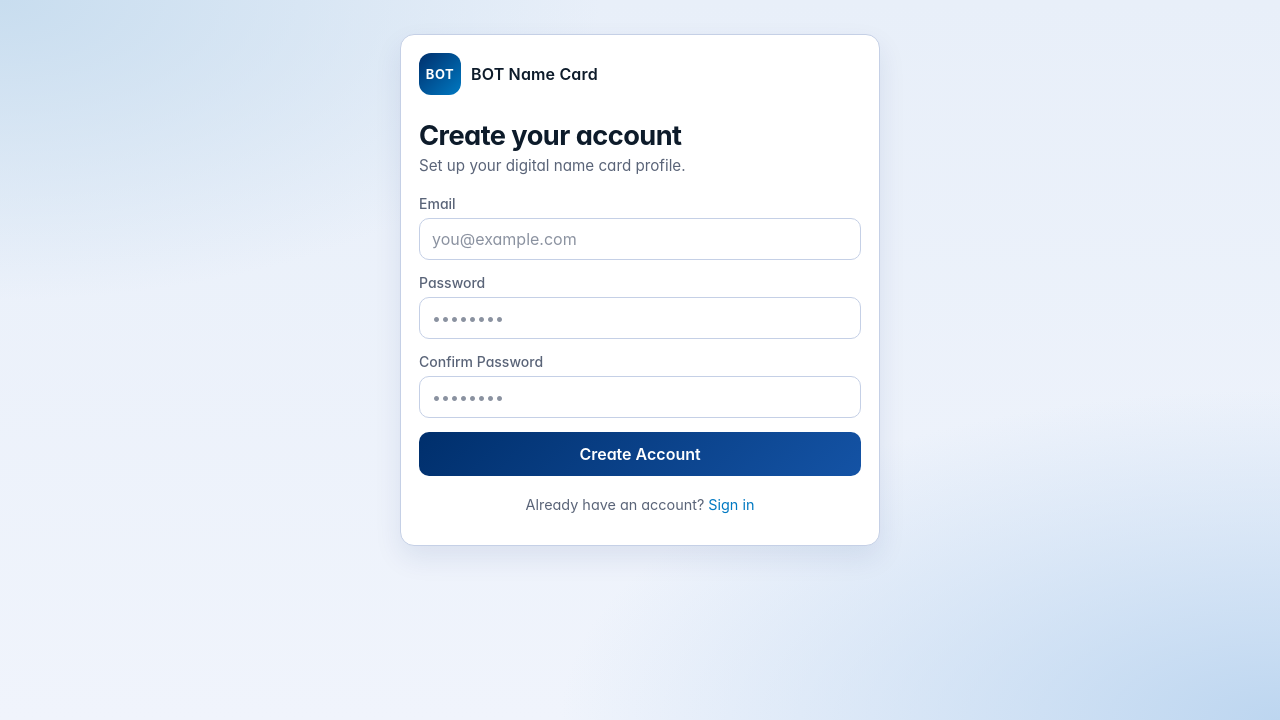
Test case: RegisterPage › shows generic error on other API failures
This screenshot has width=1280, height=720.
In the field labelled "Email": (640, 239) [419,218,861,260], type "taken@b.com"
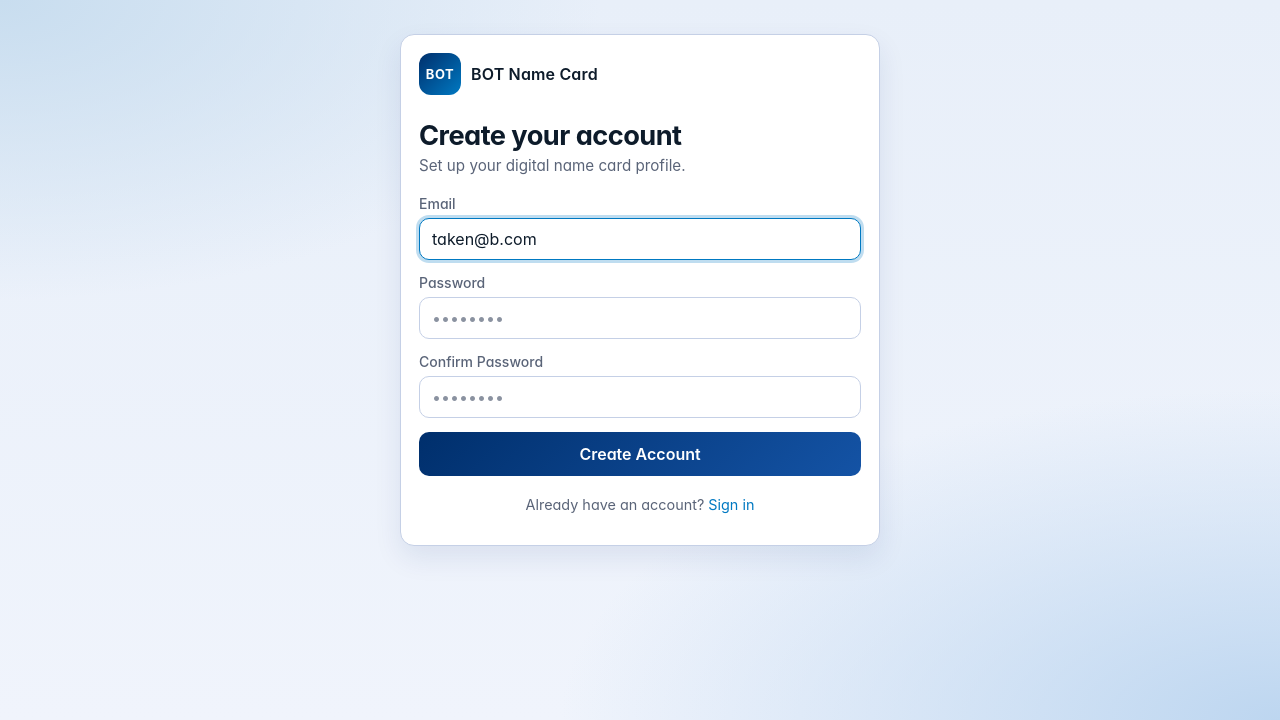
In the password field labelled "Password": (640, 318) [419,297,861,339], type "password123"
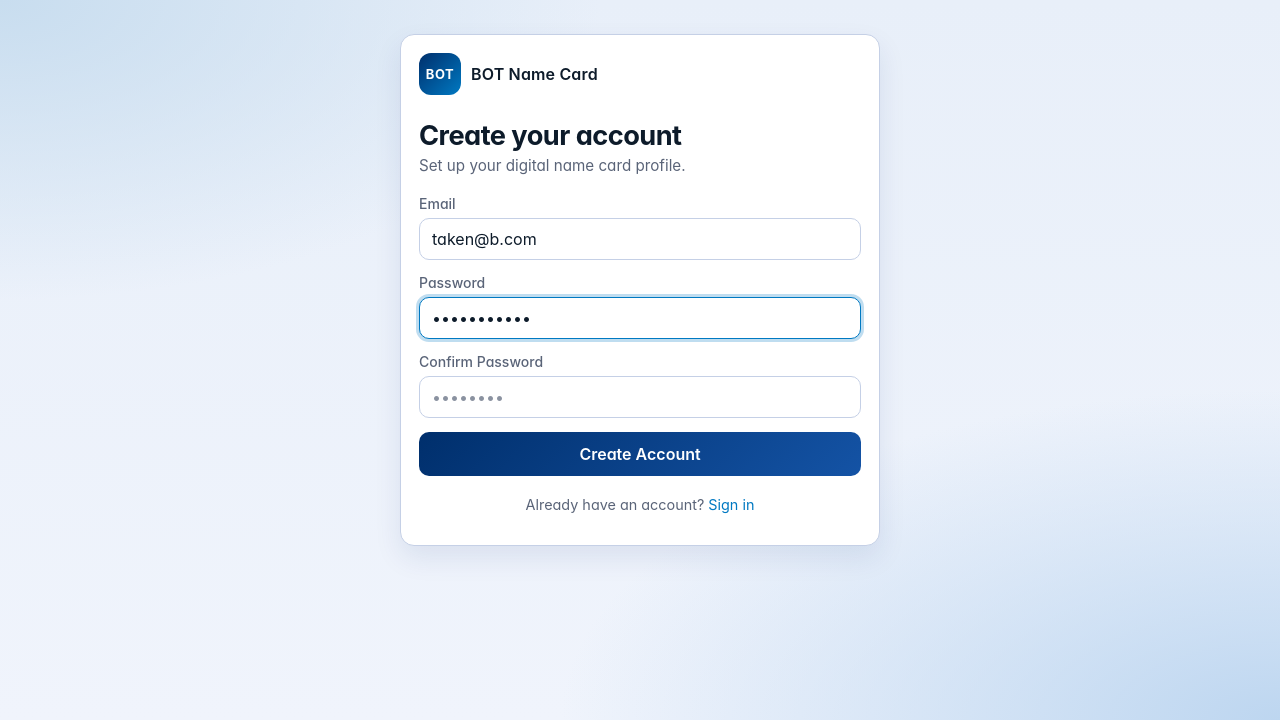
In the password field labelled "Confirm Password": (640, 397) [419,376,861,418], type "password123"
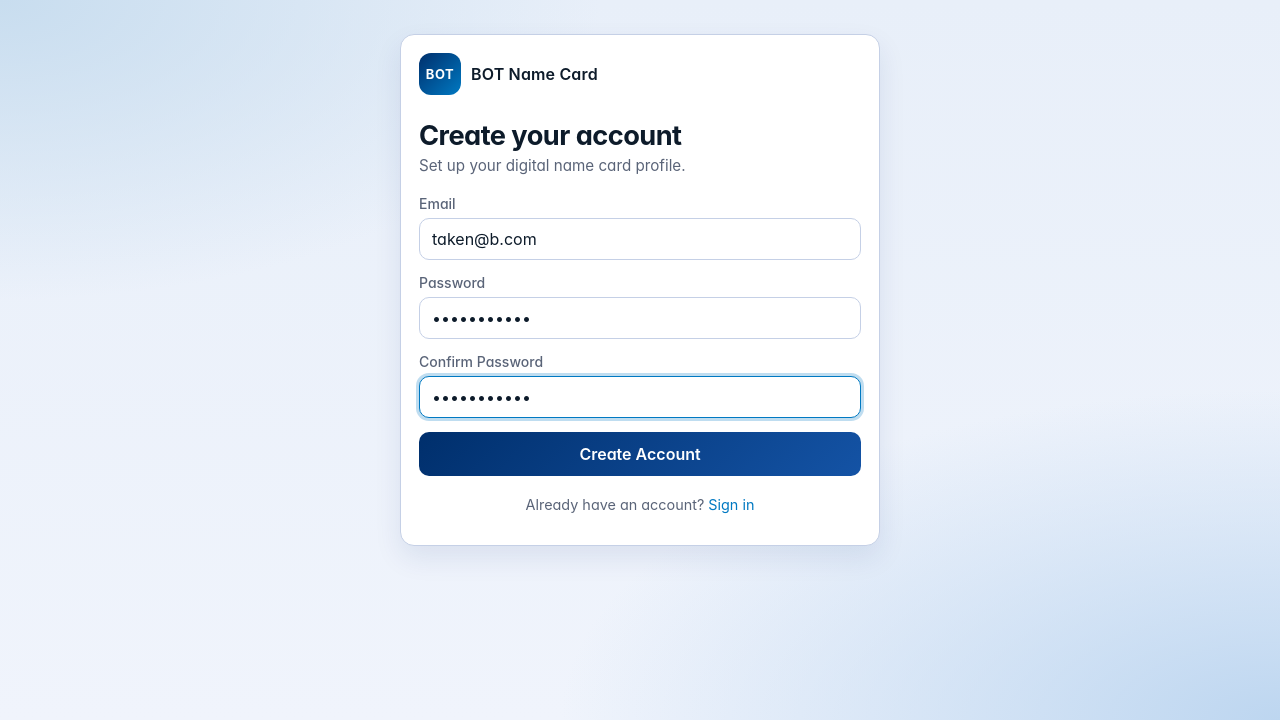
Click the button "Create Account": (640, 454) [419,432,861,476]
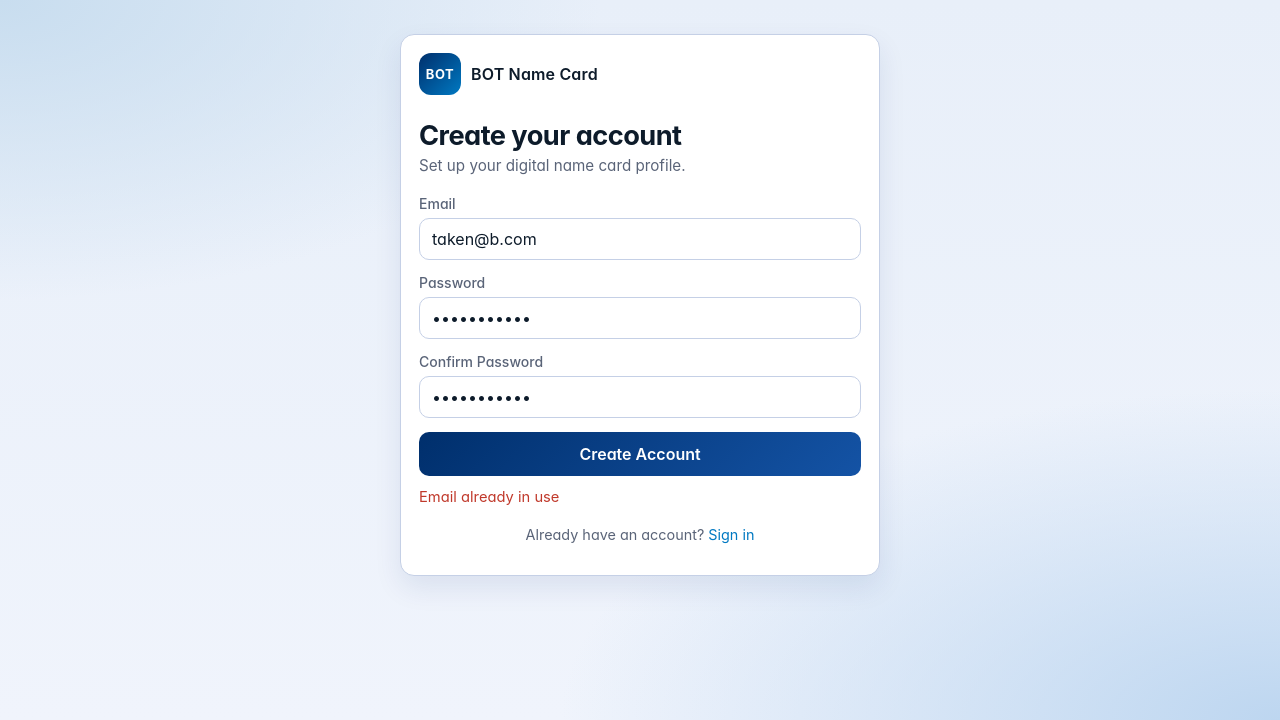
Check: the text "Email already in use" is shown, box [419,488,560,506]
